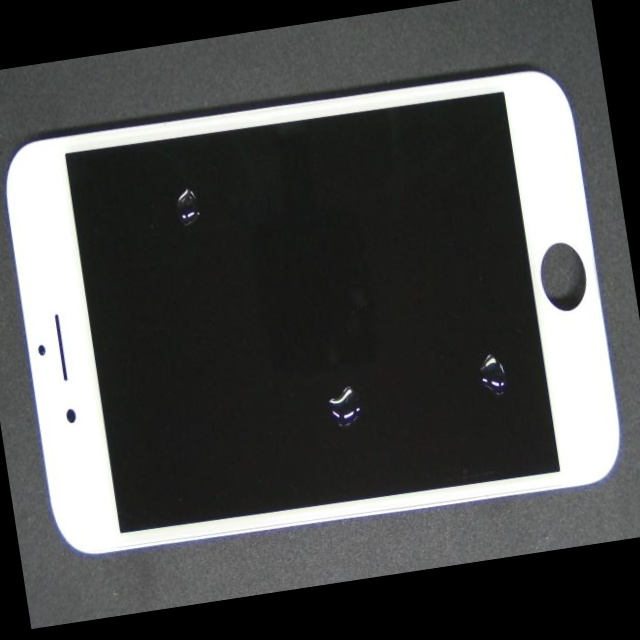oil: (225, 141, 640, 564), (155, 174, 527, 587), (64, 83, 289, 282)
